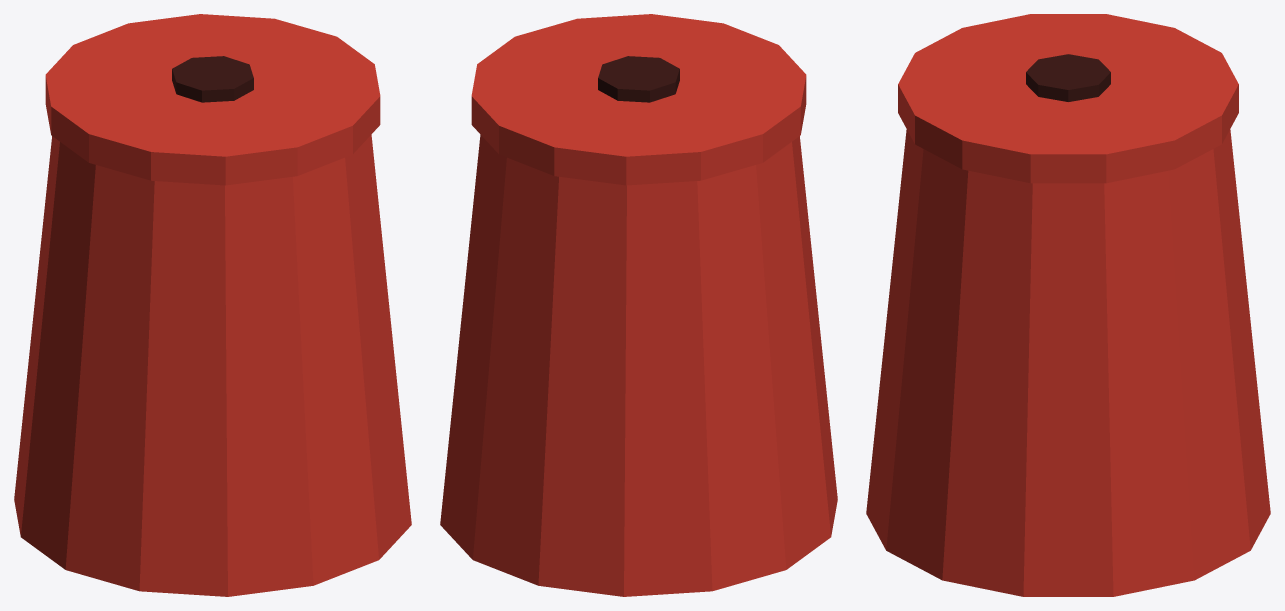
The model's file is plastic_stool.glb.
The picture shows the model from 3 angles, left to right: view 1: azimuth 30°, elevation 25°; view 2: azimuth 150°, elevation 25°; view 3: azimuth 270°, elevation 25°; orthographic projection.
Visible parts, largest first — view 1: plastic_stool; view 2: plastic_stool; view 3: plastic_stool.
Boxes of the visible parts, x1,y1,x2,y2 form: plastic_stool: [14, 14, 411, 596]; plastic_stool: [440, 14, 837, 596]; plastic_stool: [866, 14, 1270, 596].
Size of the model in its own units: 0.3705 by 0.4575 by 0.38.
